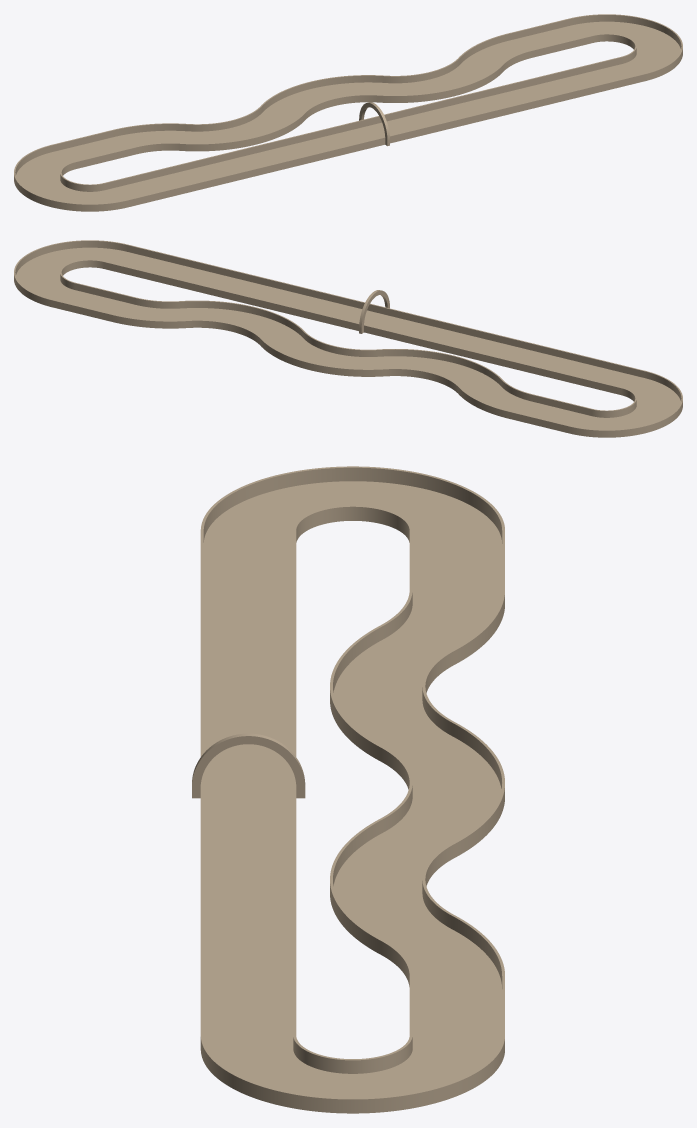
Rendered from track_high.dae.
3 views of the same model, one above another, from view 1: azimuth 30°, elevation 25°; view 2: azimuth 150°, elevation 25°; view 3: azimuth 270°, elevation 25° (orthographic). The views are drawn at different scales.
Visible parts, largest first — view 1: Untitled; view 2: Untitled; view 3: Untitled.
Part boxes in pixels (x1,y1,x2,y2): Untitled: (14,14,682,211); Untitled: (14,240,682,437); Untitled: (192,466,504,1113).
Size of the model in its own units: 25.1 by 5.25 by 1.15.
